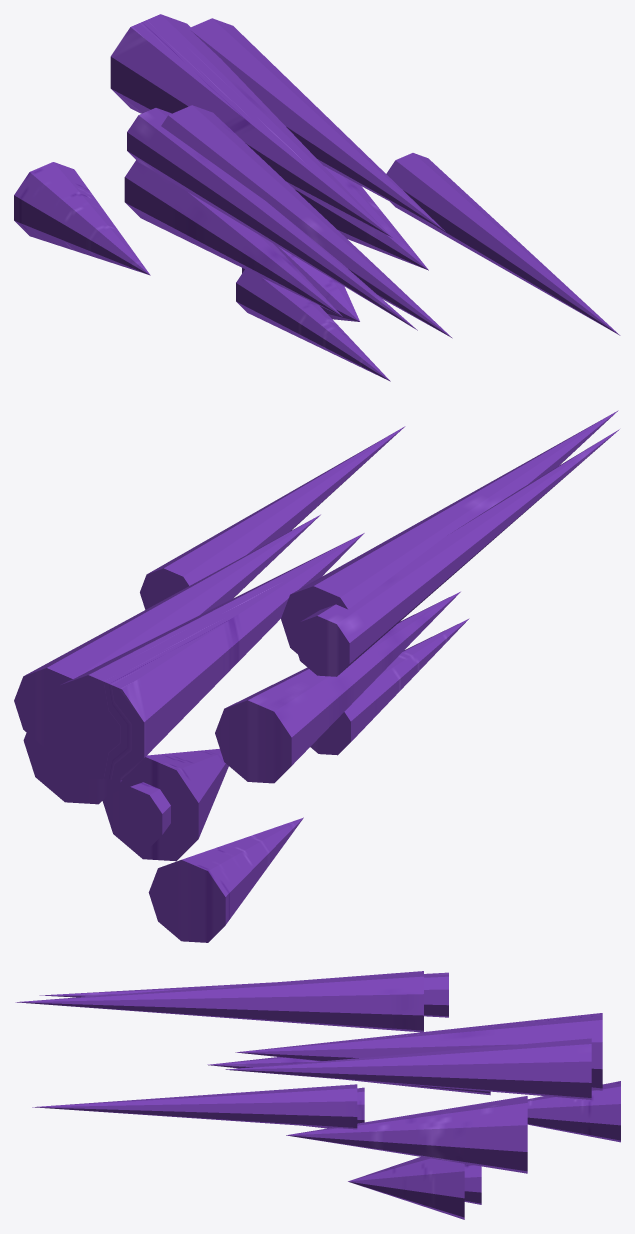
Rendered from rift_crystal_cluster_lod0.glb.
The picture shows the model from 3 angles, top to bottom: view 1: azimuth 30°, elevation 25°; view 2: azimuth 150°, elevation 25°; view 3: azimuth 270°, elevation 25°; orthographic projection. The views are drawn at different scales.
Parts seen in each view (by area): view 1: rift_2, rift_9, rift_10, rift_1, rift_4, rift_3, rift_7, rift_6, rift_5, rift_8; view 2: rift_2, rift_4, rift_9, rift_10, rift_1, rift_7, rift_3, rift_8, rift_6, rift_0, rift_5; view 3: rift_1, rift_10, rift_5, rift_2, rift_3, rift_8, rift_7, rift_9, rift_4, rift_0.
Boxes of the visible parts, x1,y1,x2,y2 form: rift_2: [110, 14, 391, 237]; rift_9: [127, 108, 417, 330]; rift_10: [189, 18, 445, 231]; rift_1: [161, 105, 452, 338]; rift_4: [124, 160, 342, 316]; rift_3: [386, 153, 620, 335]; rift_7: [14, 162, 150, 275]; rift_6: [236, 269, 390, 381]; rift_5: [295, 166, 428, 270]; rift_8: [242, 243, 359, 321]; rift_2: [47, 533, 364, 780]; rift_4: [215, 591, 460, 783]; rift_9: [293, 429, 619, 676]; rift_10: [14, 514, 320, 750]; rift_1: [281, 410, 618, 653]; rift_7: [148, 817, 303, 942]; rift_3: [140, 426, 405, 609]; rift_8: [102, 748, 228, 861]; rift_6: [310, 618, 469, 755]; rift_0: [106, 782, 170, 847]; rift_5: [23, 732, 121, 804]; rift_1: [15, 971, 423, 1032]; rift_10: [225, 1038, 591, 1099]; rift_5: [286, 1096, 527, 1173]; rift_2: [235, 1013, 602, 1090]; rift_3: [32, 1084, 357, 1129]; rift_8: [348, 1157, 464, 1219]; rift_7: [527, 1081, 620, 1142]; rift_9: [39, 972, 448, 1017]; rift_4: [207, 1057, 490, 1095]; rift_0: [464, 1164, 481, 1204].
Bounding box in the file's own units: 5.26 × 5.17 × 14.51.
1 material, 1 textured.
